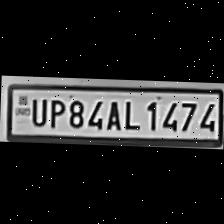1: (140, 96, 158, 130)
4: (158, 97, 180, 131), (84, 97, 104, 130), (196, 99, 216, 132)
7: (176, 99, 194, 132)
8: (64, 96, 84, 129)
A: (102, 96, 122, 130)
L: (122, 96, 140, 130)
P: (45, 96, 65, 128)
U: (28, 94, 46, 127)
